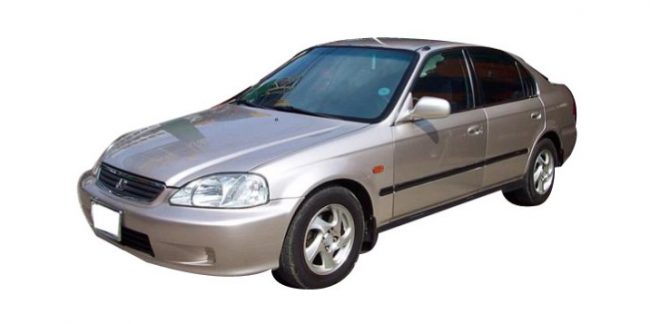sedan: (75, 35, 580, 290)
